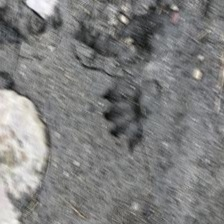raccoon: (64, 56, 170, 125)
